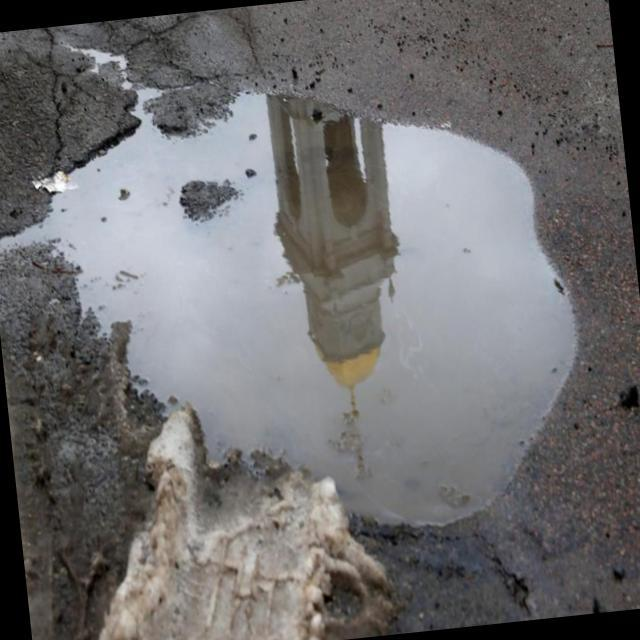Pothole: (0, 0, 592, 603)
